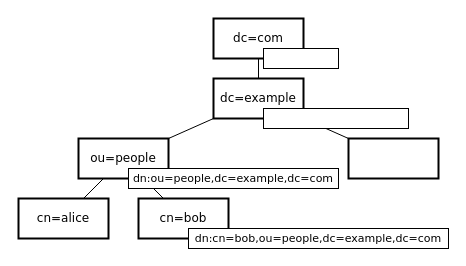
Some shapes in this 466 by 266 pixel diagram are drawn without their labels. Here are the shapes that lost their labels. From the top down, the centre of each, then its label:
At (300,58): "dn:dc=com".
At (335,118): "dn:dc=example,dc=com".
At (393,158): "ou=group".
